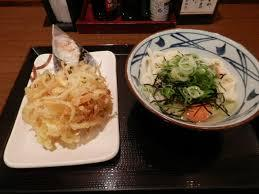kakiage: (27, 69, 111, 145)
